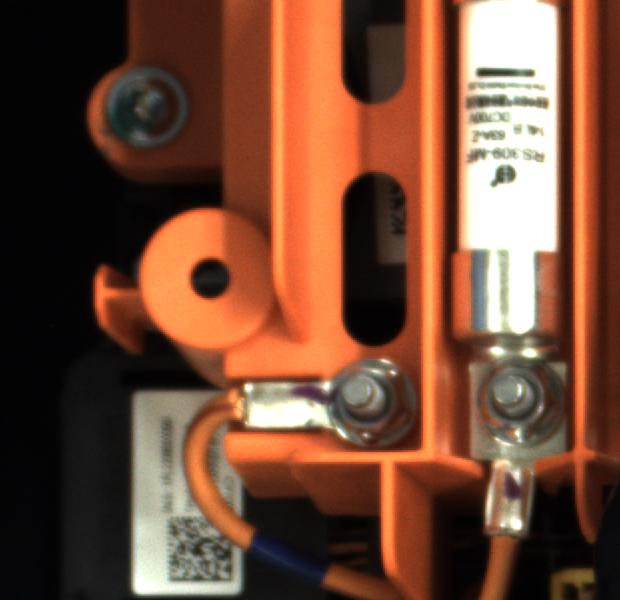screw_m: (94, 51, 201, 160)
screw_s: (308, 352, 419, 451), (470, 354, 570, 445)
